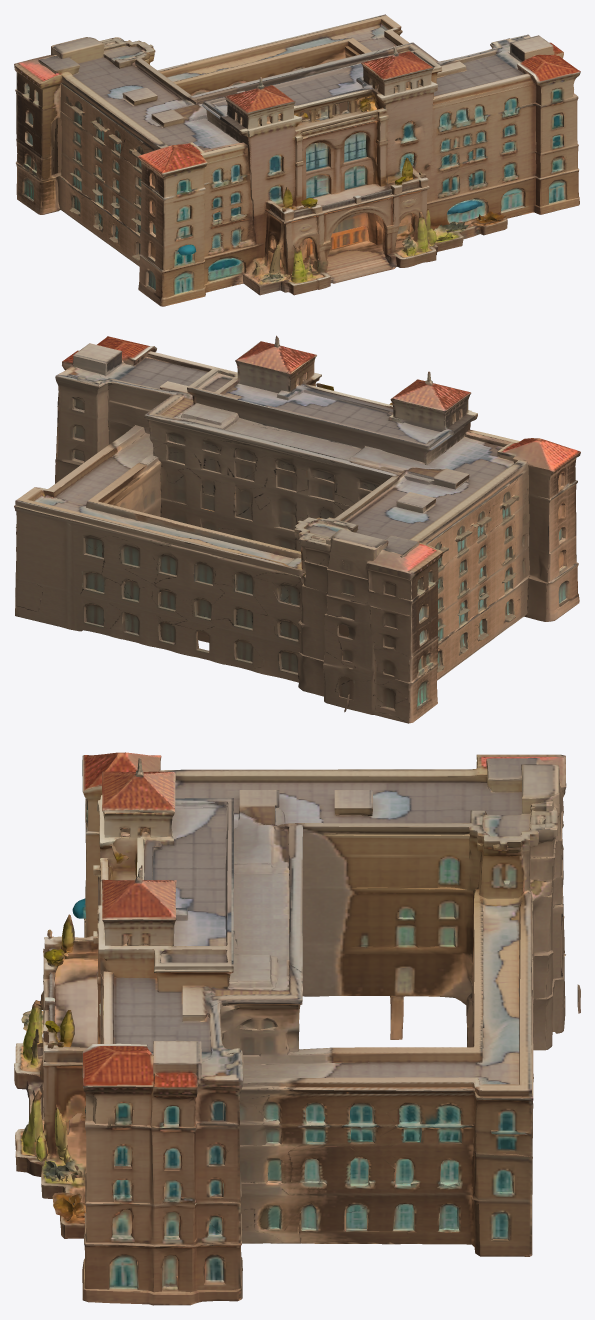
The model's file is v3_king_david_hotel.glb.
3 renders of one model, top to bottom at view 1: azimuth 30°, elevation 25°; view 2: azimuth 150°, elevation 25°; view 3: azimuth 270°, elevation 25°, orthographic. The views are drawn at different scales.
Parts seen in each view (by area): view 1: geometry_0; view 2: geometry_0; view 3: geometry_0.
Boxes of the visible parts, bbox=[...] form: geometry_0: bbox=[14, 14, 580, 306]; geometry_0: bbox=[14, 335, 580, 723]; geometry_0: bbox=[14, 752, 580, 1305].
Bounding box in the file's own units: 70 × 30 × 50.
Materials: 1 (1 with a texture image).
